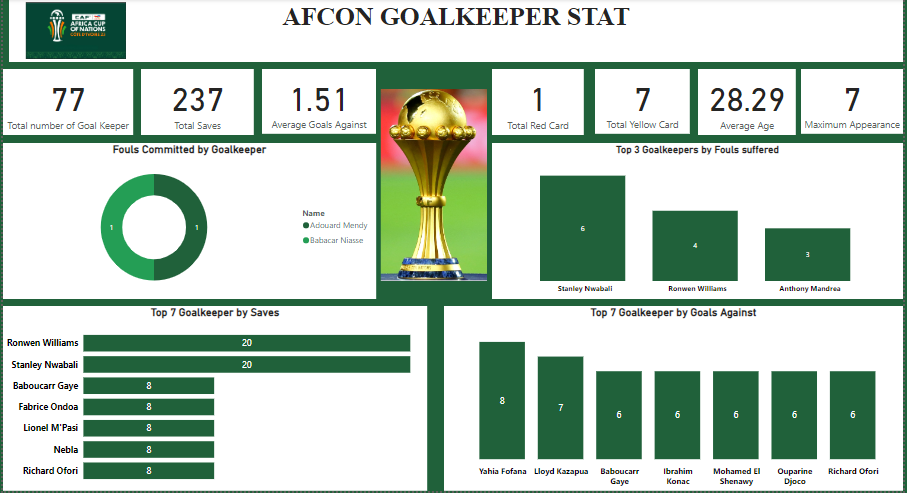

Layout of this report page (visuals, bound fields, positions):
{"tool":"powerbi","page":{"name":"Page 3","canvas":[1500,820],"ordinal":2},"visuals":[{"type":"textbox","box":[10,0,1490,105],"z":0},{"type":"card","fields":{"Values":["Goal keeper stat.Name"]},"box":[0,116.7,216.7,110],"z":1000},{"type":"clusteredBarChart","title":"Top 7 Goalkeeper by Saves ","fields":{"Category":["Goal keeper stat.Name"],"Y":["Goal keeper stat.Saves"]},"box":[0,511.7,706.7,308.3],"z":2000},{"type":"card","fields":{"Values":["Goal keeper stat.Saves"]},"box":[230,116.7,188.3,110],"z":3000},{"type":"clusteredColumnChart","title":"Top 7  Goalkeeper by Goals Against","fields":{"Y":["Goal keeper stat.Goals Against"],"Category":["Goal keeper stat.Name"]},"box":[735,511.7,765,308.3],"z":4000},{"type":"card","fields":{"Values":["Goal keeper stat.Age"]},"box":[1158.3,116.7,163.3,110],"z":5000},{"type":"card","fields":{"Values":["Goal keeper stat.Red Card"]},"box":[815,116.7,153.3,110],"z":6000},{"type":"card","fields":{"Values":["Goal keeper stat.Yellow Card"]},"box":[986.7,116.7,158.3,108.3],"z":7000},{"type":"card","fields":{"Values":["Goal keeper stat.Appearance"]},"box":[1330,116.7,170,108.3],"z":8000},{"type":"donutChart","title":"Fouls Committed by Goalkeeper","fields":{"Category":["Goal keeper stat.Name"],"Y":["Goal keeper stat.Fouls Committed"]},"box":[0,240,621.7,260],"z":9000},{"type":"clusteredColumnChart","title":"Top 3 Goalkeepers by Fouls suffered","fields":{"Y":["Goal keeper stat.Fouls suffered"],"Category":["Goal keeper stat.Name"]},"box":[815,240,685,260],"z":10000},{"type":"image","box":[0,0,243.3,105],"z":11000},{"type":"image","box":[621.7,145,193.3,330],"z":12000},{"type":"card","fields":{"Values":["Goal keeper stat.Goals Against"]},"box":[431.7,116.7,190,108.3],"z":13000}]}

Visuals, with their boxes in screenshot pixels (x1, y1, x2, y2), scaled from the page's 1500x820 canvas onto the 907x493 screenshot:
textbox: BBox(6, 0, 906, 63)
card - Goal keeper stat.Name: BBox(0, 70, 131, 136)
"Top 7 Goalkeeper by Saves " clusteredBarChart: BBox(0, 308, 427, 492)
card - Goal keeper stat.Saves: BBox(139, 70, 253, 136)
"Top 7  Goalkeeper by Goals Against" clusteredColumnChart: BBox(444, 308, 906, 492)
card - Goal keeper stat.Age: BBox(700, 70, 799, 136)
card - Goal keeper stat.Red Card: BBox(493, 70, 585, 136)
card - Goal keeper stat.Yellow Card: BBox(597, 70, 692, 135)
card - Goal keeper stat.Appearance: BBox(804, 70, 906, 135)
"Fouls Committed by Goalkeeper" donutChart: BBox(0, 144, 376, 301)
"Top 3 Goalkeepers by Fouls suffered" clusteredColumnChart: BBox(493, 144, 906, 301)
image: BBox(0, 0, 147, 63)
image: BBox(376, 87, 493, 286)
card - Goal keeper stat.Goals Against: BBox(261, 70, 376, 135)
